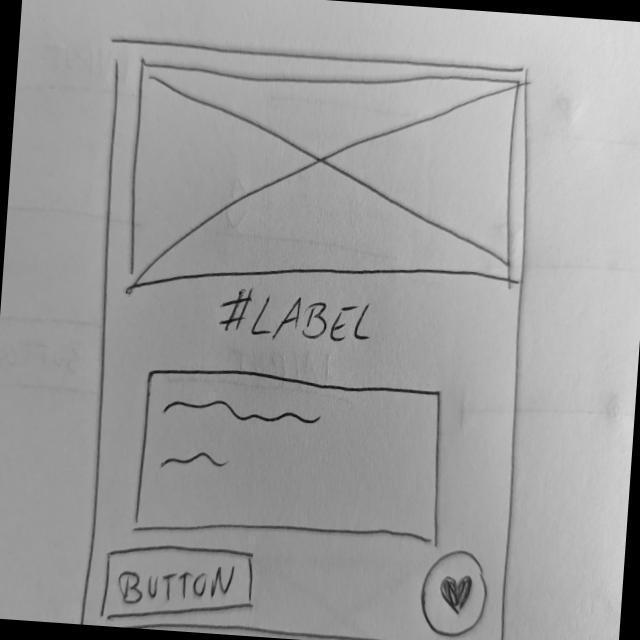button: (98, 539, 259, 637)
container: (69, 32, 547, 640)
icon-button: (417, 547, 491, 640)
image: (123, 51, 527, 319)
label: (216, 281, 380, 350)
textarea: (132, 364, 452, 555)
